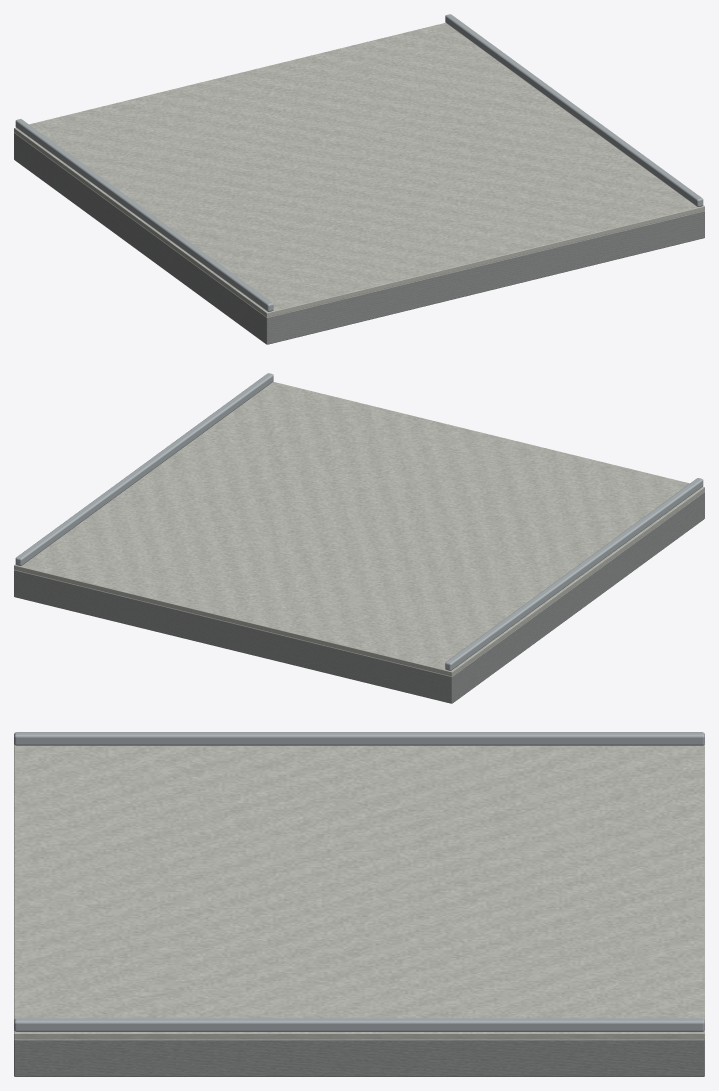
File: three-d-liminal-spaces-kit-liminal-spaces-kit-ceiling-plain-cf8a3791.glb
3 renders of one model, top to bottom at view 1: azimuth 30°, elevation 25°; view 2: azimuth 150°, elevation 25°; view 3: azimuth 270°, elevation 25°, orthographic. The views are drawn at different scales.
Visible parts, largest first — view 1: ceiling-plain; view 2: ceiling-plain; view 3: ceiling-plain.
Part boxes in pixels (left/top/right/bottom): ceiling-plain: left=14, top=14, right=704, bottom=344; ceiling-plain: left=14, top=373, right=704, bottom=703; ceiling-plain: left=14, top=732, right=704, bottom=1076.
Bounding box in the file's own units: 2 × 0.1749 × 2.
Materials: 3 (2 with a texture image).
